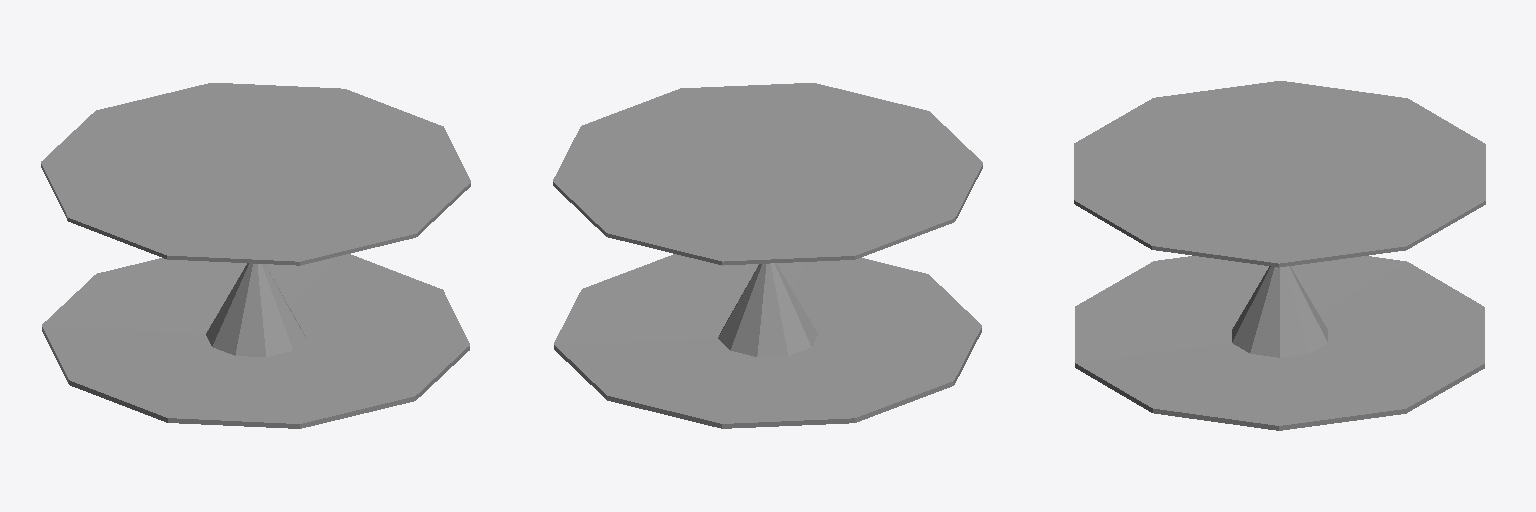
Rendered from Background.obj.
3 renders of one model, left to right at view 1: azimuth 30°, elevation 25°; view 2: azimuth 150°, elevation 25°; view 3: azimuth 270°, elevation 25°, orthographic.
Visible parts, largest first — view 1: Circle_Circle.001; view 2: Circle_Circle.001; view 3: Circle_Circle.001.
Part boxes in pixels (left/top/right/bottom): Circle_Circle.001: left=41, top=83, right=470, bottom=428; Circle_Circle.001: left=553, top=83, right=982, bottom=428; Circle_Circle.001: left=1074, top=81, right=1485, bottom=430.
Bounding box in the file's own units: 273 × 117 × 260.